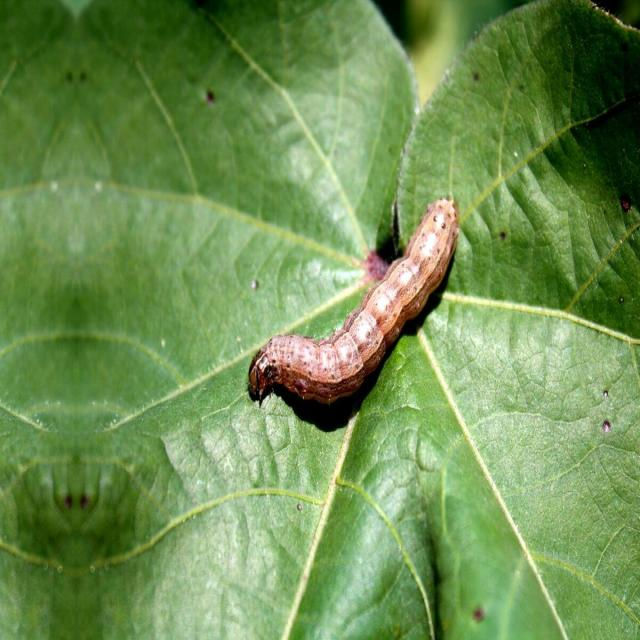Armyworm: (218, 194, 492, 442)
